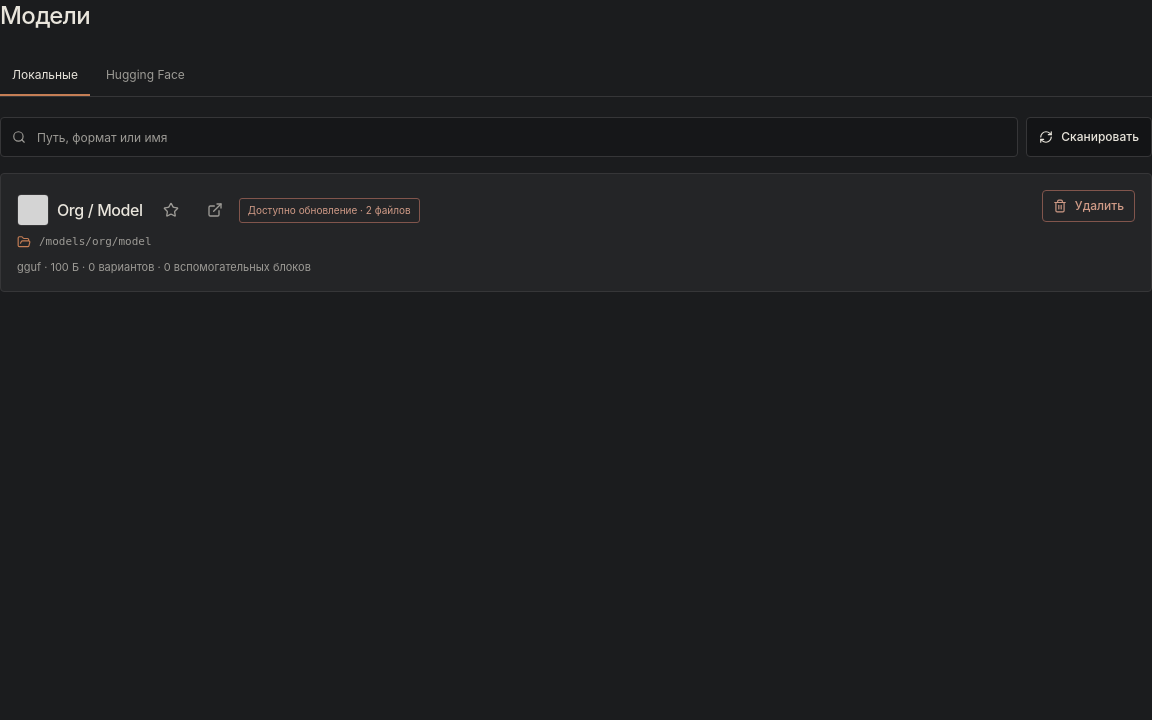
Test: opens compact file rows with dates, updates one file without a confirmation and keeps completed rows until the dialog closes
The width and height of the screenshot is (1152, 720).
Click the button "Доступно обновление · 2 файлов".
click(329, 210)  # box [239,198,420,222]
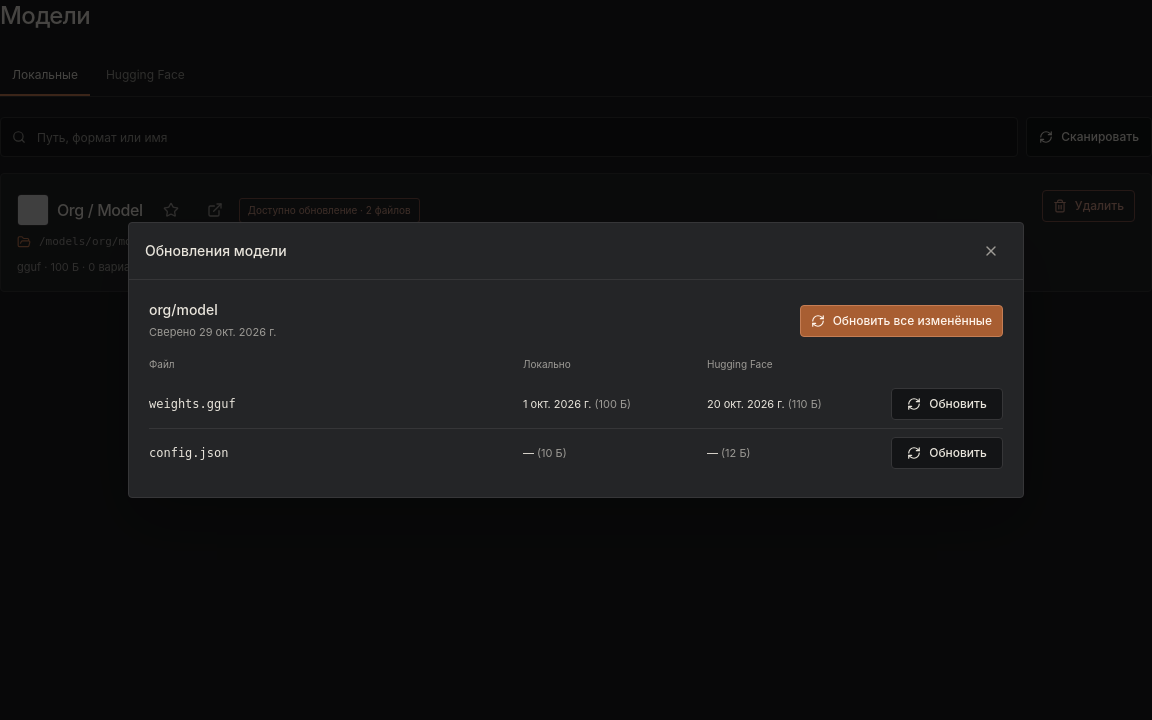
Expected: the text "weights.gguf" is shown, [149,397,236,411]
Expected: the text "Локально" is shown, [523,358,571,370]
Expected: the text "Hugging Face" is shown, [707,358,773,370]
Click the button with aria-label "Обновить weights.gguf".
click(947, 404)  # box [891,388,1003,420]
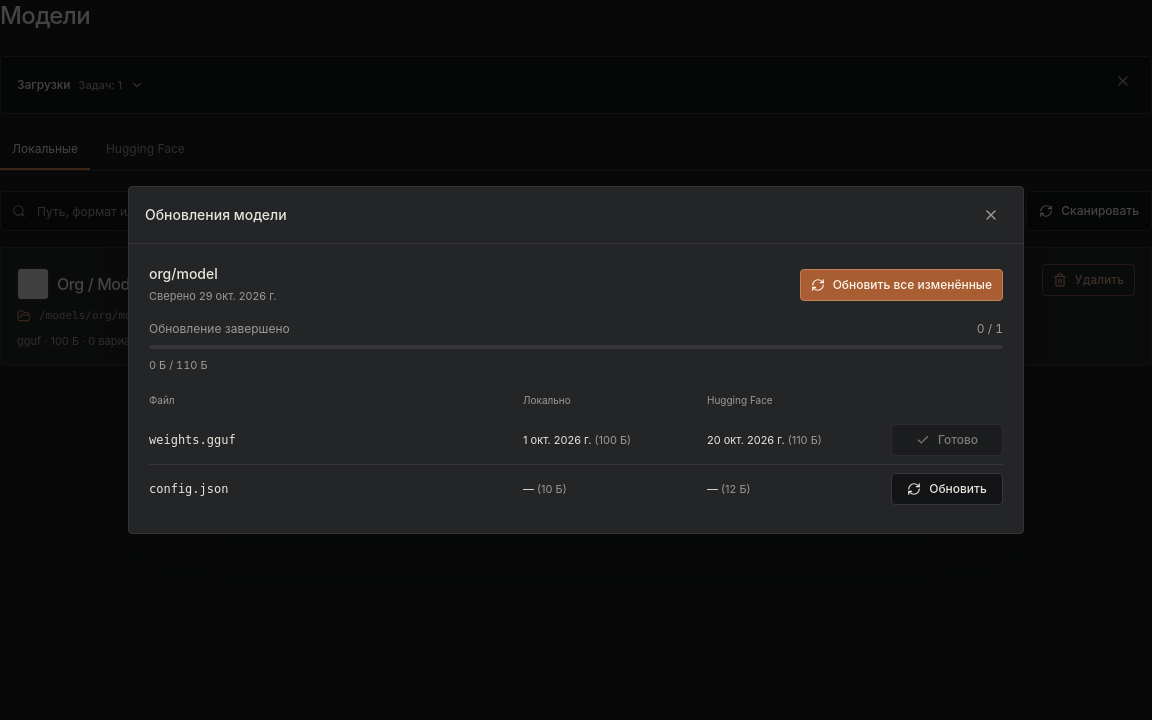
Expected: the text "weights.gguf" is shown, [149,433,236,447]
Expected: the message named "Обновление файлов" is shown, [149,321,1003,377]
Expected: the button with aria-label "Обновлено weights.gguf" is disabled, [891,424,1003,456]
Click the button named "Закрыть".
click(991, 215)  # box [975,199,1007,231]
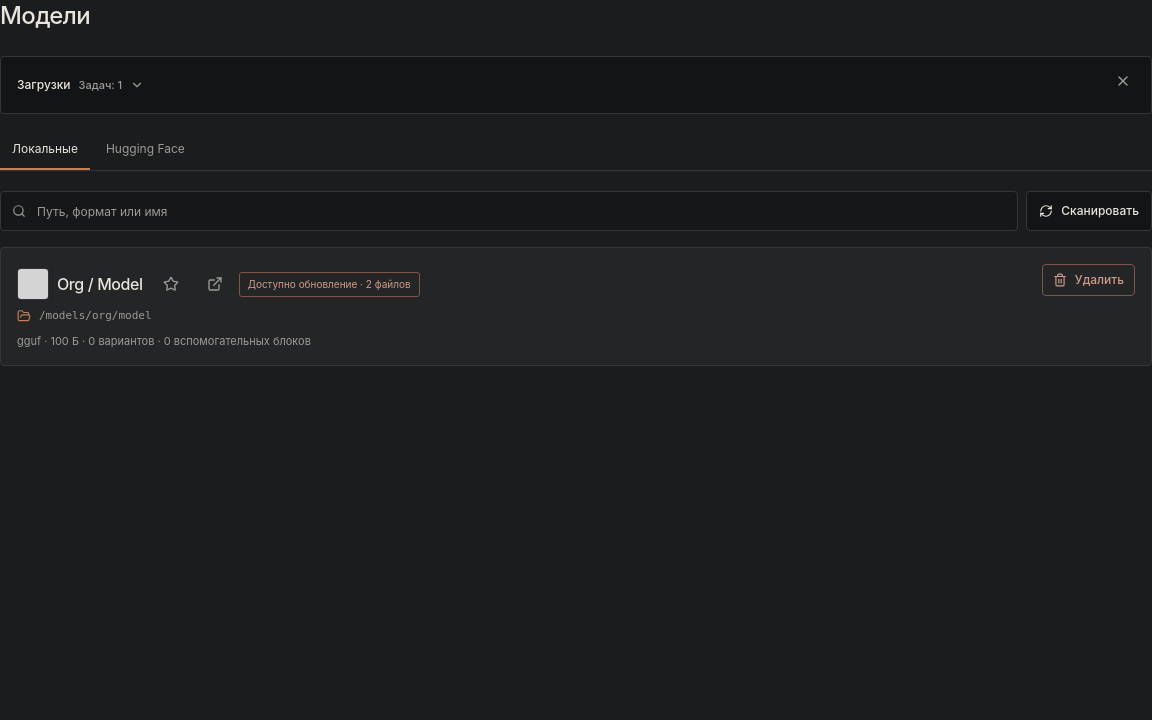
Click the button "Доступно обновление · 2 файлов".
click(329, 284)  # box [239,272,420,296]
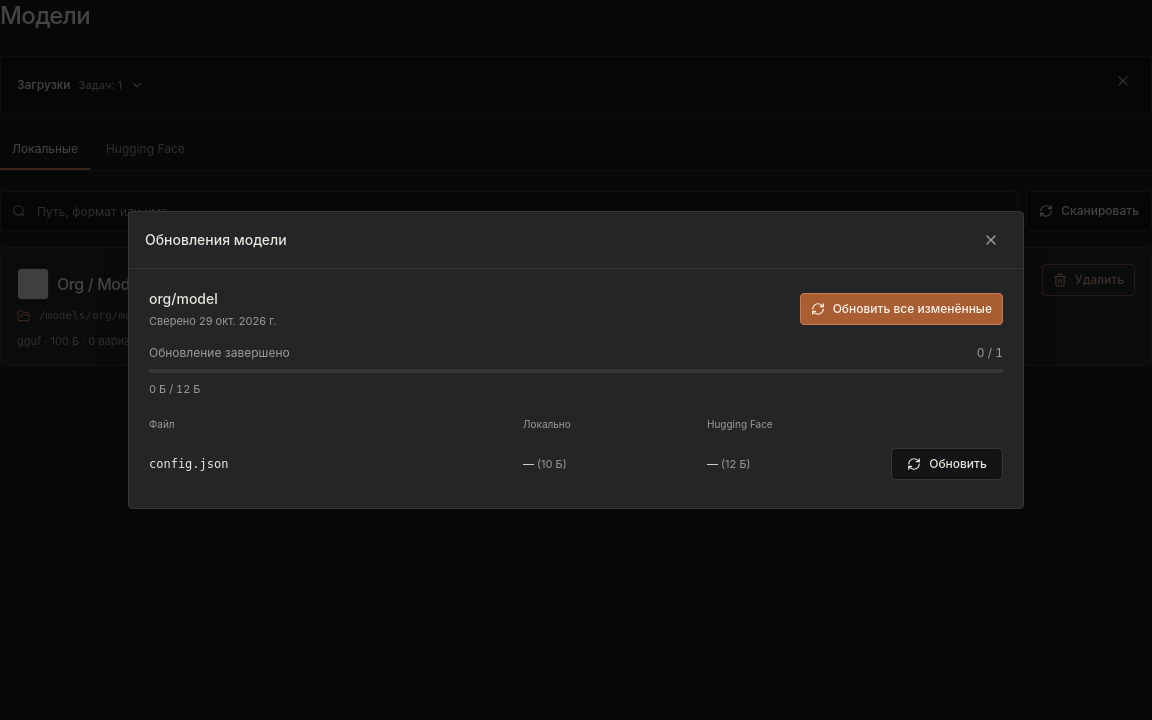
Expected: the text "weights.gguf" is not shown
Expected: the text "config.json" is shown, [149,457,228,471]
